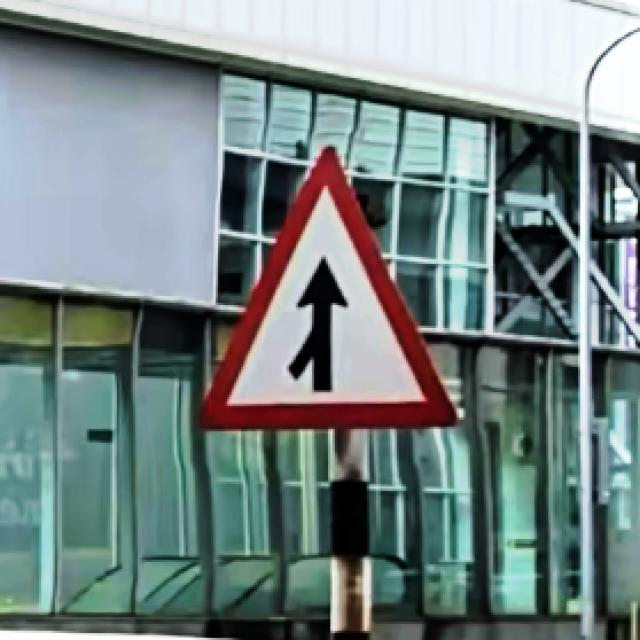leftmerge: (200, 145, 461, 434)
